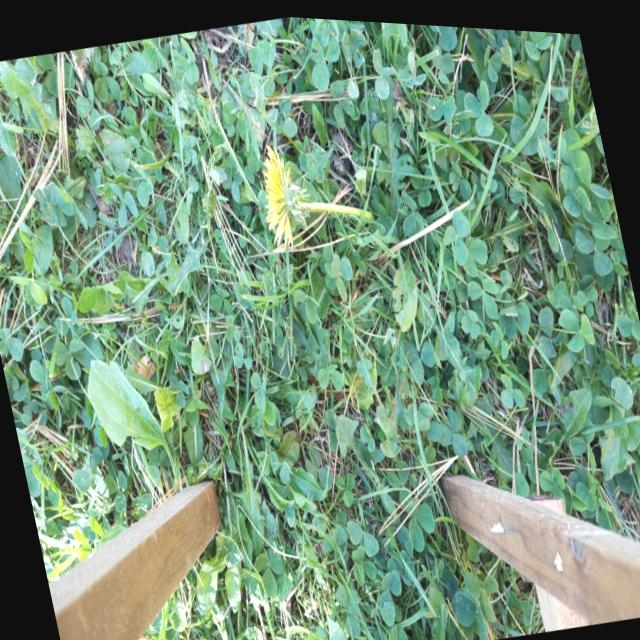base: (358, 195, 386, 235)
